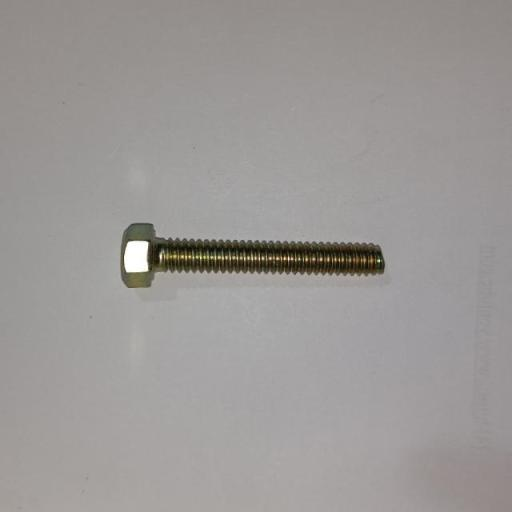Bolt: (120, 222, 386, 288)
